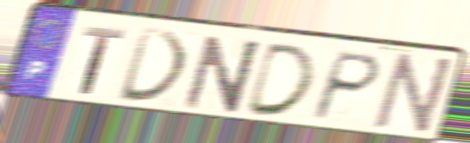D: (115, 26, 192, 105), (241, 41, 319, 118)
N: (368, 51, 458, 139), (180, 33, 265, 114)
P: (307, 49, 385, 123)
T: (78, 24, 128, 97)
